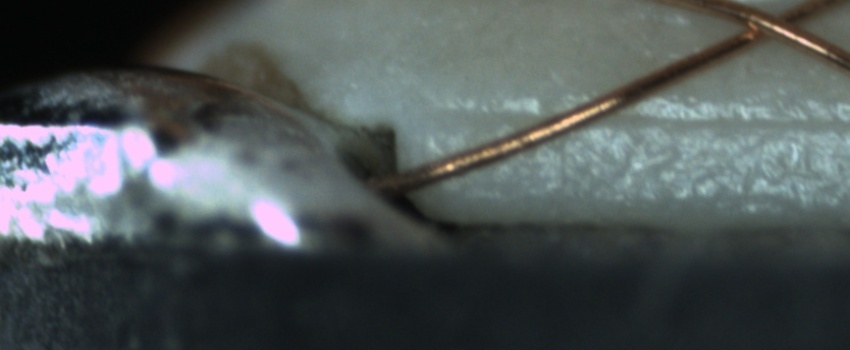CL: (717, 2, 826, 48)
DL: (434, 87, 850, 154)
